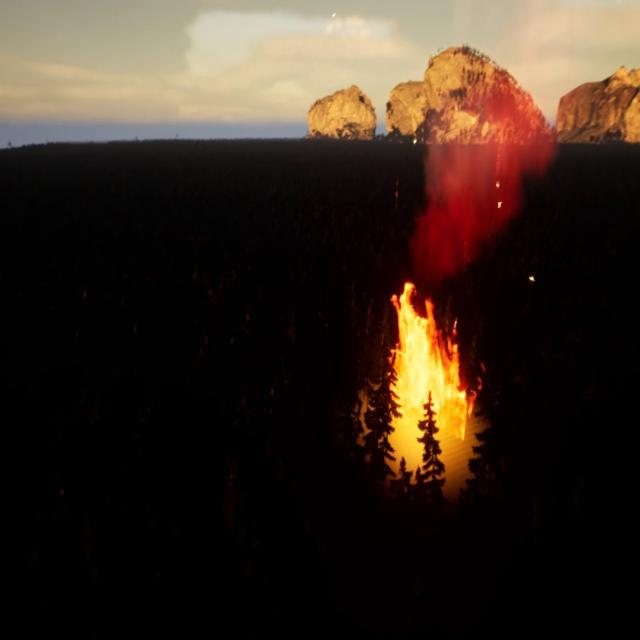fire: (386, 282, 482, 444)
smoke: (412, 81, 558, 274)
